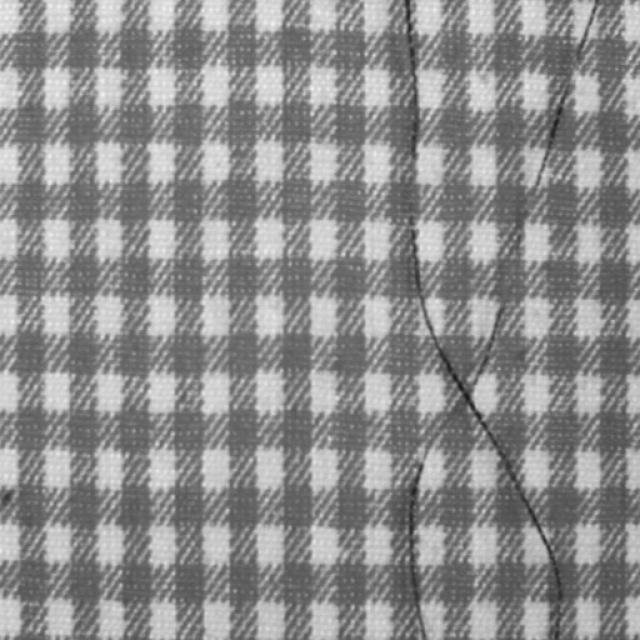Foreign-Body-Defect: (408, 210, 562, 639), (409, 461, 429, 639), (540, 86, 570, 176), (402, 0, 418, 160), (475, 306, 504, 380), (576, 0, 598, 56)
